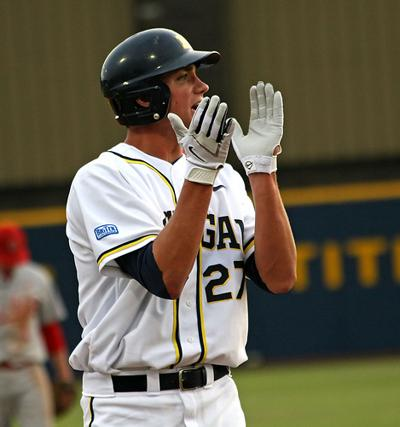person: (64, 30, 301, 425)
